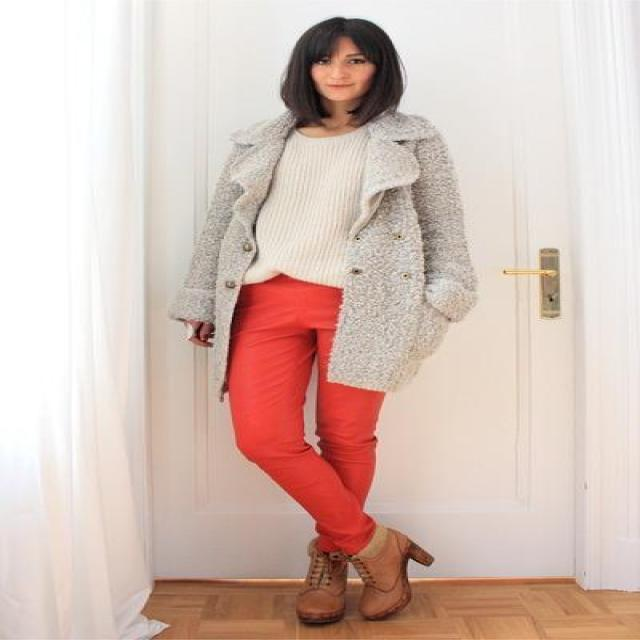jacket: (184, 100, 477, 390), (254, 123, 404, 286)
pants: (194, 273, 386, 549)
shoe: (299, 525, 432, 594)
